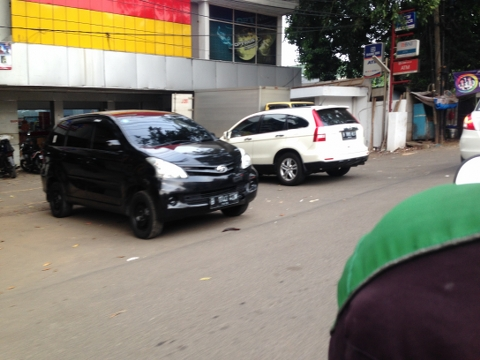mobil: (41, 109, 258, 239), (219, 105, 369, 186)
